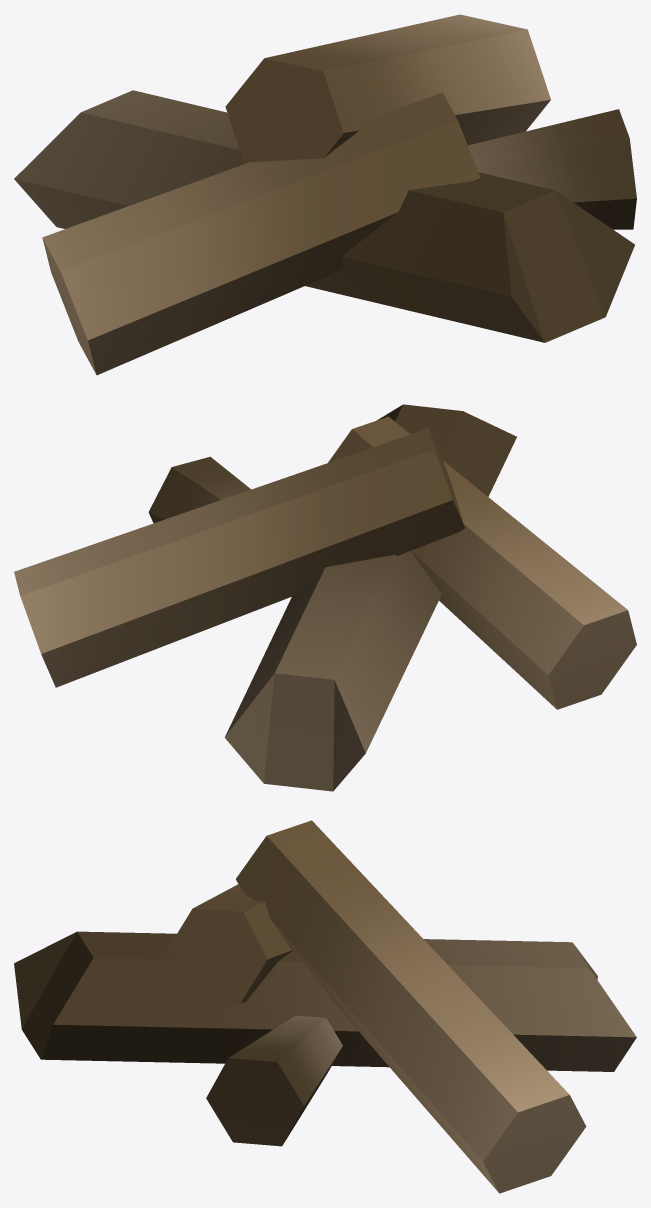
The model's file is WoodPile.gltf.
3 renders of one model, top to bottom at view 1: azimuth 30°, elevation 25°; view 2: azimuth 150°, elevation 25°; view 3: azimuth 270°, elevation 25°, orthographic. The views are drawn at different scales.
Parts seen in each view (by area): view 1: WoodPile; view 2: WoodPile; view 3: WoodPile.
Part boxes in pixels (bbox=[...]): WoodPile: bbox=[14, 14, 636, 375]; WoodPile: bbox=[14, 404, 636, 791]; WoodPile: bbox=[14, 820, 636, 1193].
Size of the model in its own units: 0.8266 by 0.3646 by 0.8587.
1 material, 1 textured.
